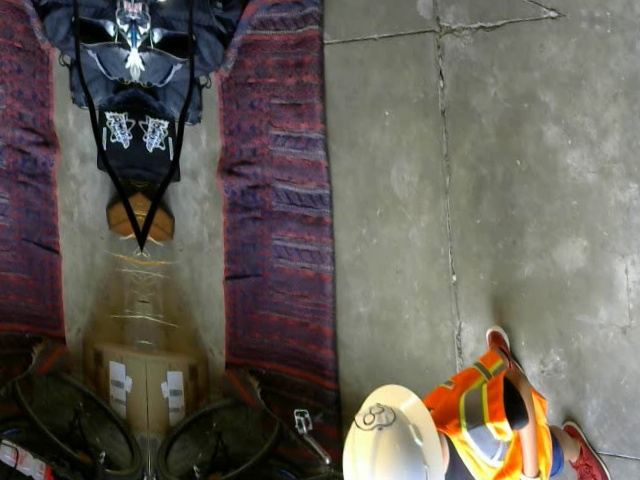eight: (351, 397, 394, 436)
